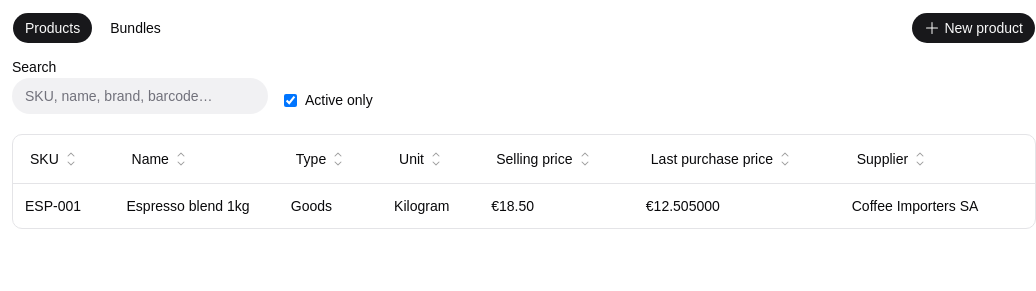
the product list › refetches without the filter when active-only is unticked, and survives it
Expected: the link "ESP-001" is shown, [25,198,81,214]
Expected: the text "OLD-001" is not shown
Click the checkbox at x=290, y=100, box [284,94,297,106]
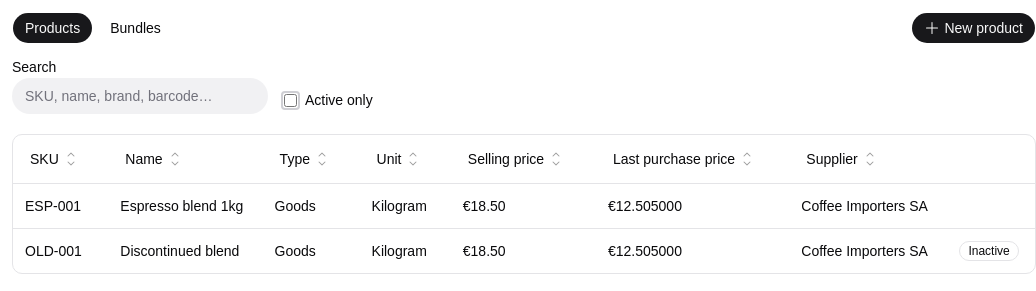
Expected: the link "OLD-001" is shown, [25,242,82,258]
